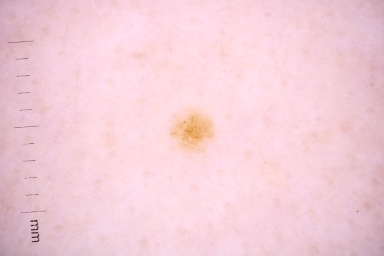nevus: (168, 113, 216, 147)
